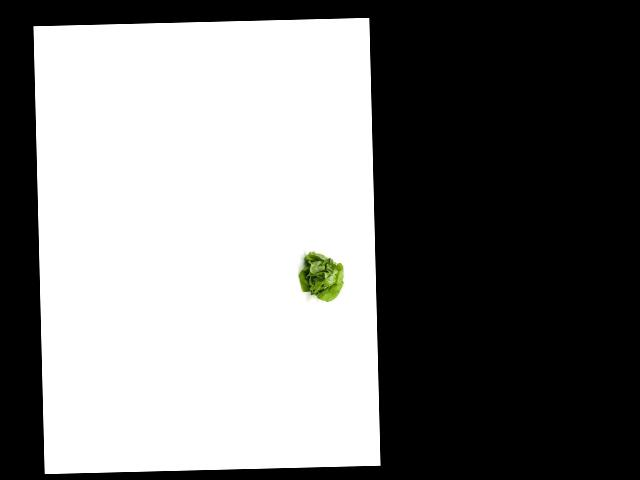lettuce: (295, 249, 348, 303)
